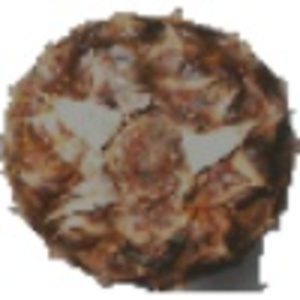abacaxi: (6, 8, 289, 286)
